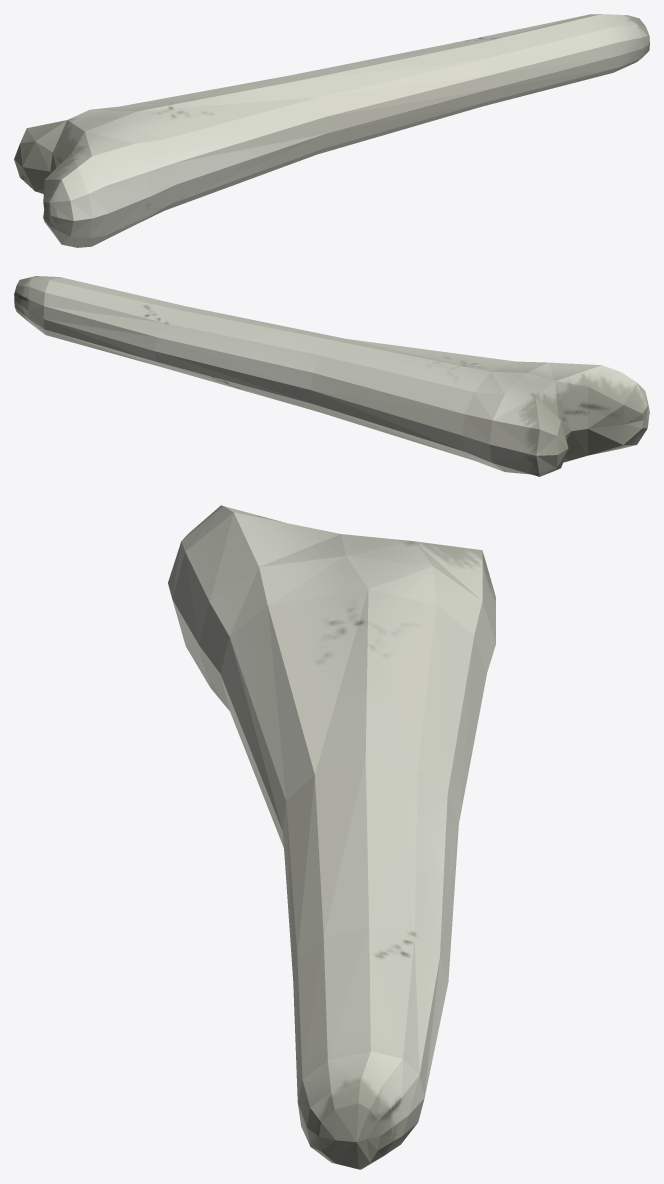
Rendered from BoneV2_20220505.obj.
3 renders of one model, top to bottom at view 1: azimuth 30°, elevation 25°; view 2: azimuth 150°, elevation 25°; view 3: azimuth 270°, elevation 25°, orthographic. The views are drawn at different scales.
Parts seen in each view (by area): view 1: pCylinder1; view 2: pCylinder1; view 3: pCylinder1.
Part boxes in pixels (x1,y1,x2,y2): pCylinder1: (14, 14, 649, 247); pCylinder1: (14, 276, 649, 476); pCylinder1: (168, 505, 495, 1169).
Bounding box in the file's own units: 1.37 × 0.1927 × 0.3237.
